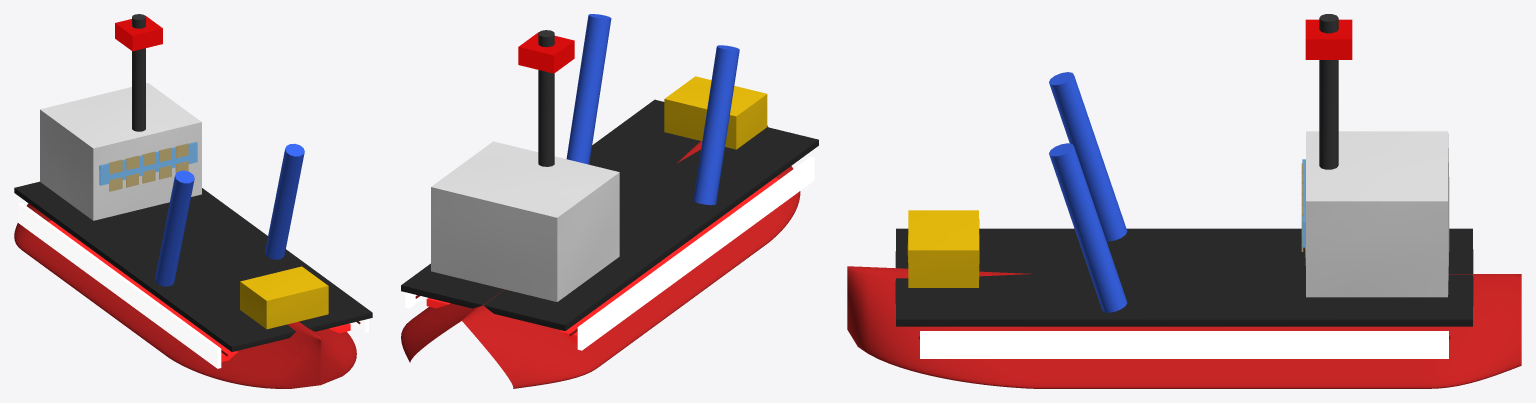
Rendered from fireboat.glb.
3 renders of one model, left to right at view 1: azimuth 30°, elevation 25°; view 2: azimuth 150°, elevation 25°; view 3: azimuth 270°, elevation 25°, orthographic. The views are drawn at different scales.
Parts seen in each view (by area): view 1: deck, bridge, hull, emissive_stripe_port, foam_deck, cannon_port, cannon_stbd, siren_mast, emissive_bridge_windows, glow_siren, emissive_hull_wash; view 2: bridge, deck, hull, emissive_stripe_port, foam_deck, cannon_port, cannon_stbd, siren_mast, glow_siren, emissive_hull_wash; view 3: deck, hull, bridge, emissive_stripe_stbd, foam_deck, cannon_stbd, cannon_port, siren_mast, glow_siren.
Boxes of the visible parts, box(x1,y1,x2,y2) form: deck: box(14, 181, 372, 351); bridge: box(40, 83, 201, 220); hull: box(14, 203, 356, 388); emissive_stripe_port: box(18, 202, 221, 368); foam_deck: box(240, 266, 328, 329); cannon_port: box(155, 170, 194, 286); cannon_stbd: box(265, 143, 304, 259); siren_mast: box(132, 14, 145, 131); emissive_bridge_windows: box(99, 142, 197, 185); glow_siren: box(115, 15, 162, 51); emissive_hull_wash: box(48, 220, 350, 361); bridge: box(431, 141, 619, 301); deck: box(401, 99, 818, 330); hull: box(401, 125, 800, 388); emissive_stripe_port: box(577, 157, 814, 350); foam_deck: box(664, 76, 767, 149); cannon_port: box(693, 45, 739, 205); cannon_stbd: box(566, 14, 611, 164); siren_mast: box(538, 30, 554, 166); glow_siren: box(518, 32, 574, 73); emissive_hull_wash: box(426, 178, 779, 342); deck: box(895, 228, 1473, 326); hull: box(847, 266, 1521, 388); bridge: box(1305, 131, 1449, 297); emissive_stripe_stbd: box(920, 331, 1448, 358); foam_deck: box(907, 210, 979, 287); cannon_stbd: box(1049, 143, 1127, 312); cannon_port: box(1049, 72, 1127, 241); siren_mast: box(1319, 14, 1338, 169); glow_siren: box(1305, 19, 1352, 59).
Bounding box in the file's own units: 10.23 × 14.65 × 28.
